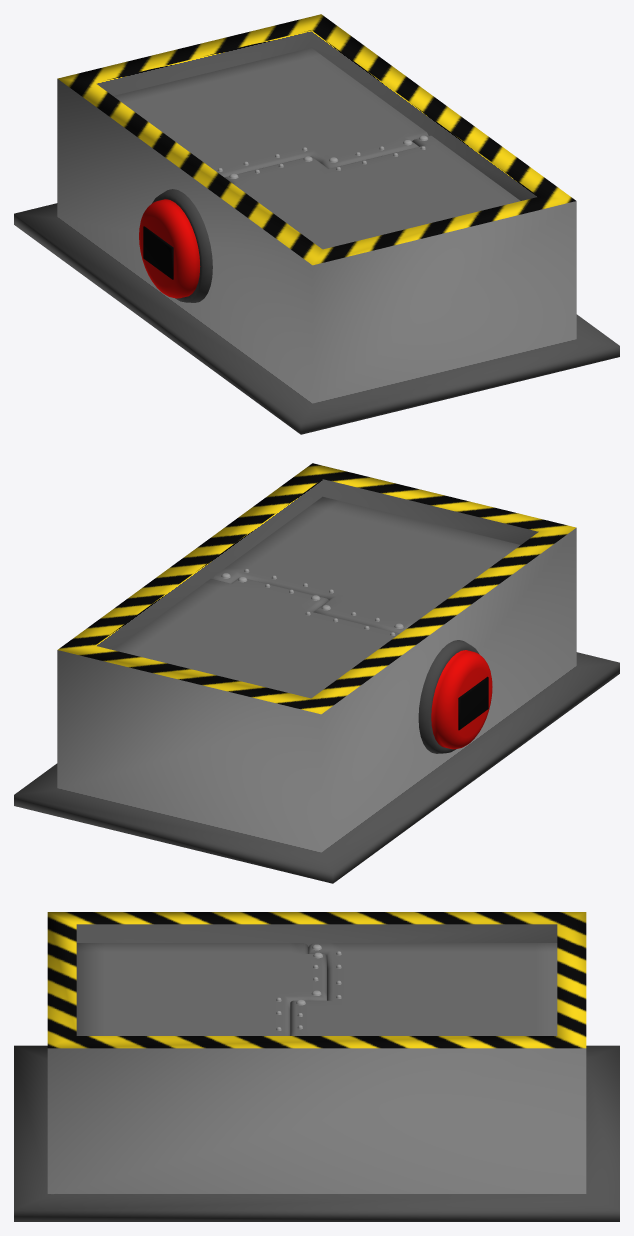
File: BridgeBox.fbx
3 renders of one model, top to bottom at view 1: azimuth 30°, elevation 25°; view 2: azimuth 150°, elevation 25°; view 3: azimuth 270°, elevation 25°, orthographic. The views are drawn at different scales.
Parts seen in each view (by area): view 1: Cube.018, Cube.019, Cube.020, Cylinder.009; view 2: Cube.018, Cube.020, Cube.019, Cylinder.009; view 3: Cube.018, Cube.019, Cube.020.
Part boxes in pixels (<box>): Cube.018: <box>14,14,619,434</box>; Cube.019: <box>113,47,428,177</box>; Cube.020: <box>224,135,520,249</box>; Cylinder.009: <box>139,199,200,298</box>; Cube.018: <box>14,463,619,883</box>; Cube.020: <box>213,496,520,633</box>; Cube.019: <box>113,577,399,698</box>; Cylinder.009: <box>431,650,492,749</box>; Cube.018: <box>14,912,619,1221</box>; Cube.019: <box>290,943,557,1035</box>; Cube.020: <box>76,943,326,1035</box>.
Bounding box in the file's own units: 391 × 177 × 609.
7 materials, 1 textured.
